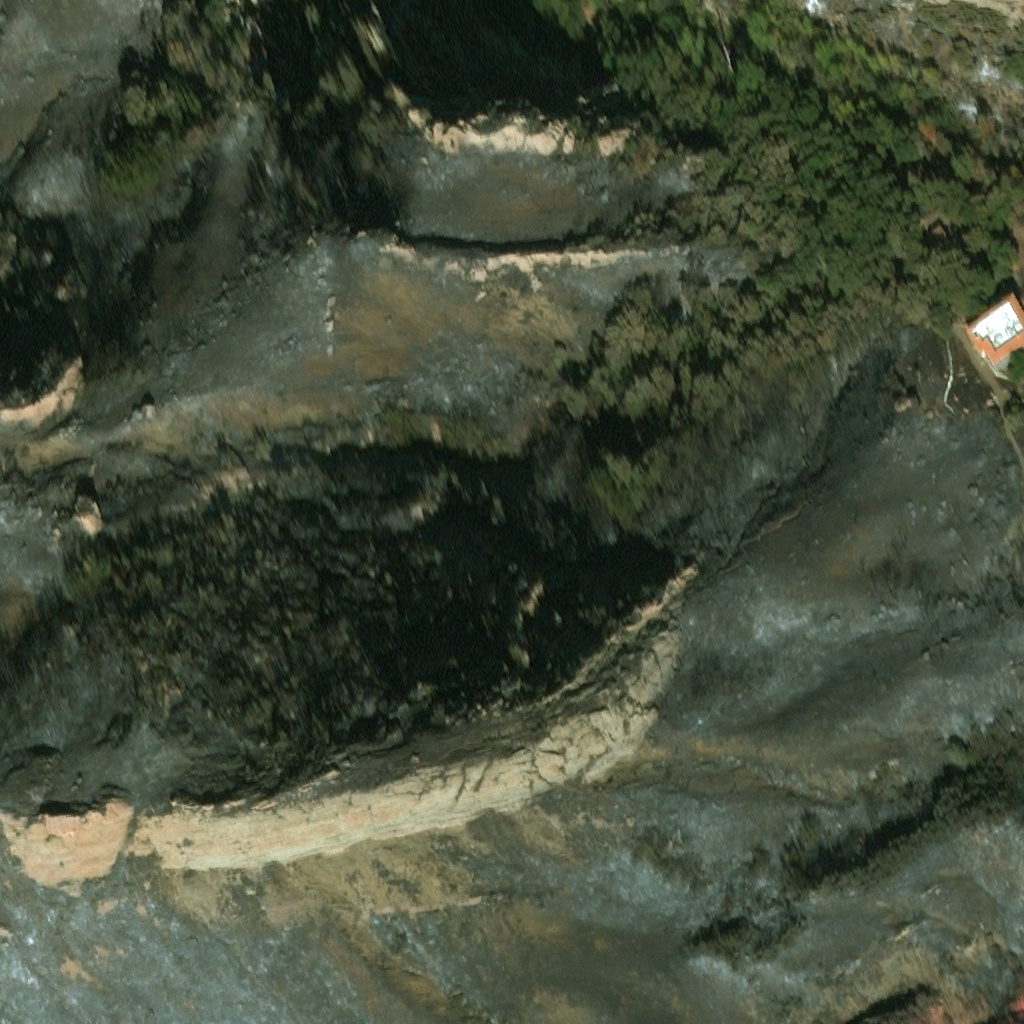0 no-damage: (964, 293, 1023, 366), (921, 215, 954, 252)
